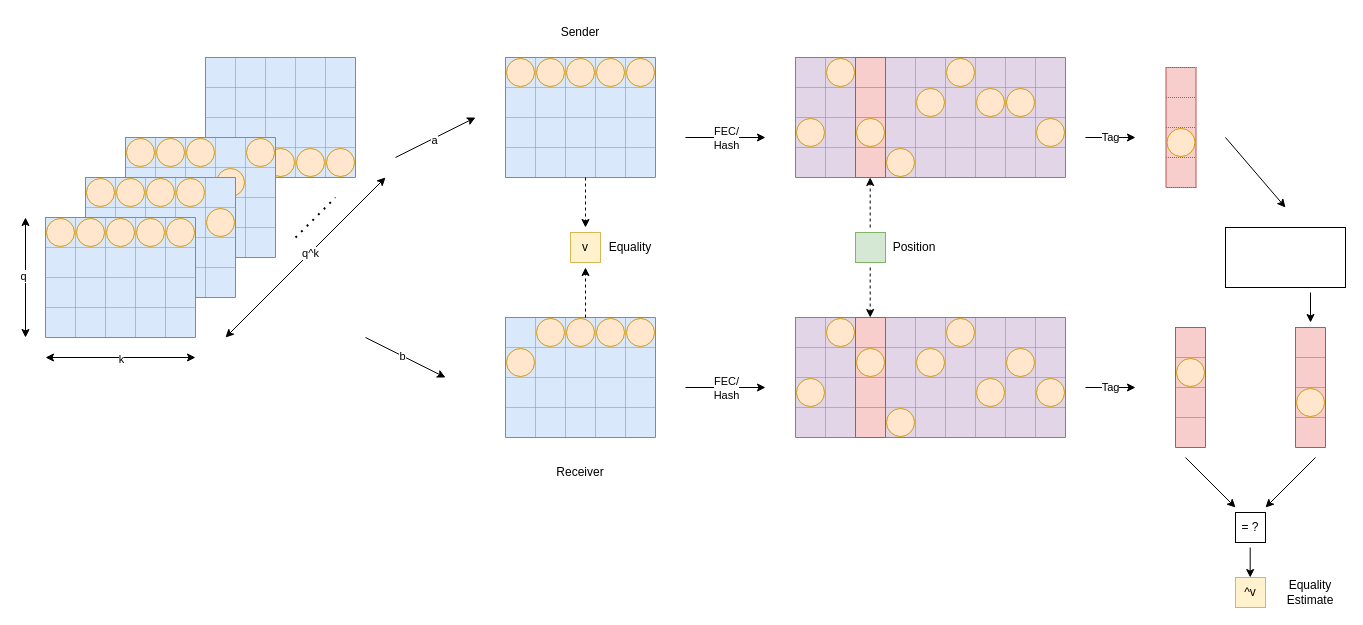
The diagram is 1363 pixels wide and 625 high, and some of its shapes have lost their labels. Each missing label, with the centre of its shape:
Noiseless Channel W(y|x) = I: (x=1285, y=257)
pi: (x=870, y=247)
